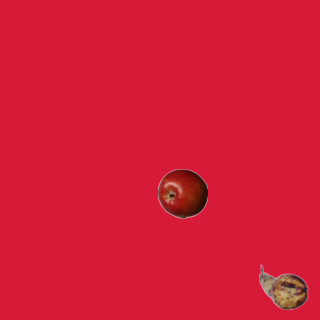Apple Braeburn: (157, 168, 207, 218)
Pear Abate: (258, 262, 308, 312)
